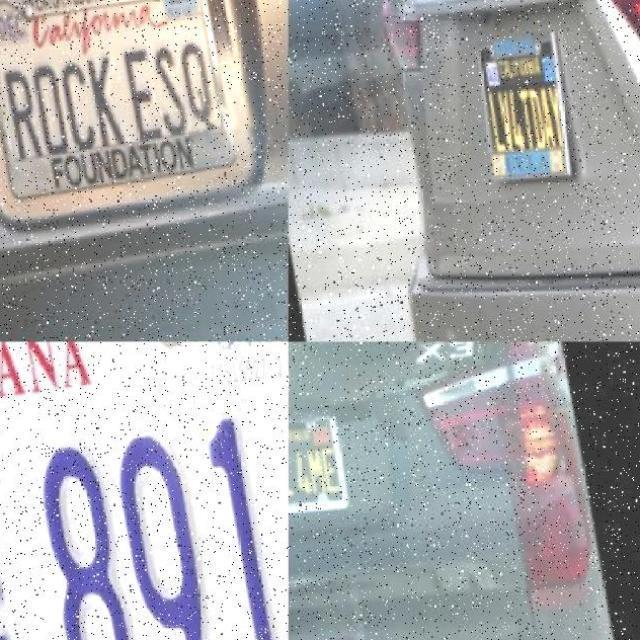License Plate: (0, 358, 288, 640), (0, 1, 252, 207), (470, 23, 586, 185), (288, 401, 354, 523)
